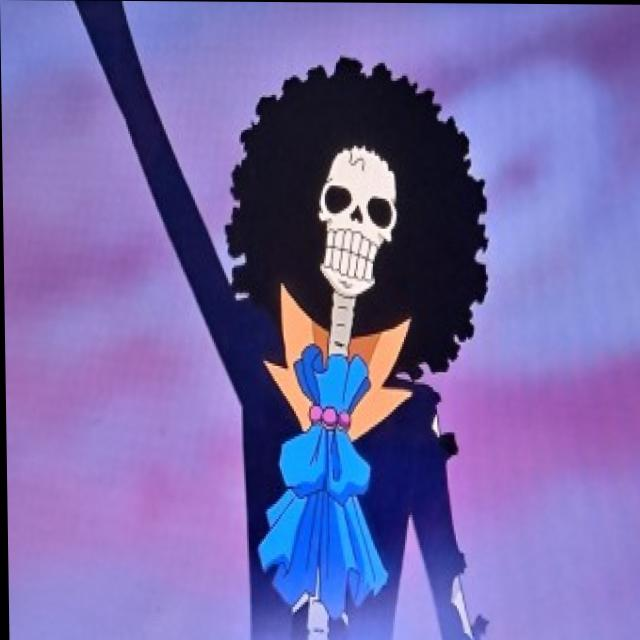Blook: (200, 53, 497, 401)
